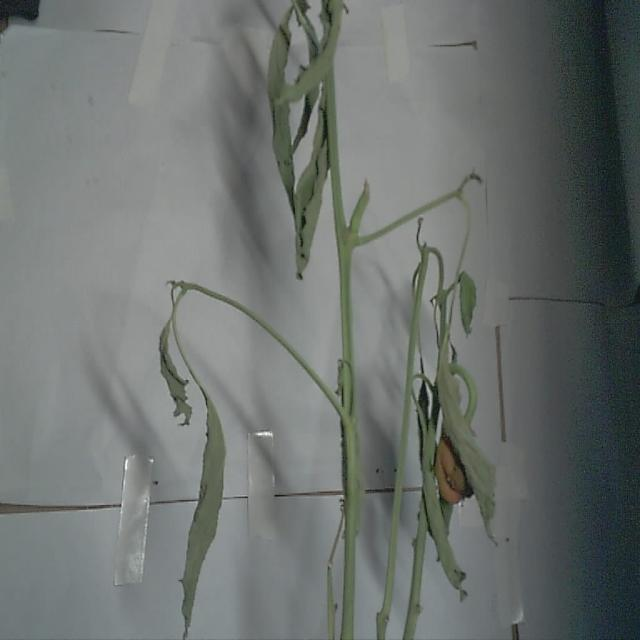Leaf: (433, 309, 501, 546), (181, 386, 225, 636), (290, 83, 332, 281), (265, 12, 300, 230), (156, 288, 192, 422)
